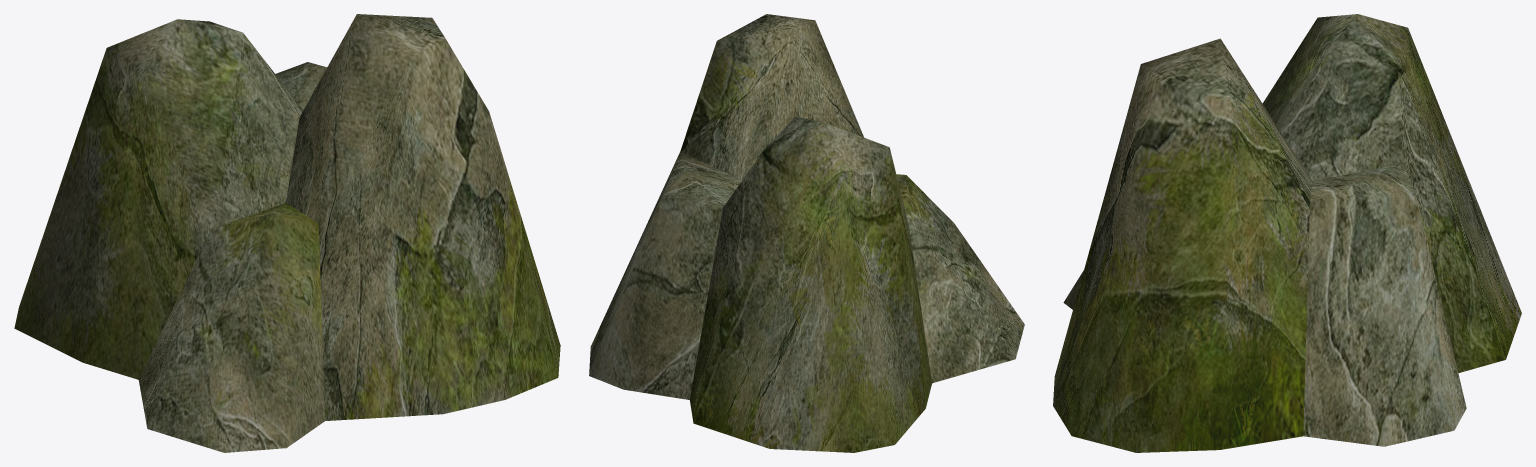
Rendered from STONE1.fbx.
3 views of the same model, side by side, from view 1: azimuth 30°, elevation 25°; view 2: azimuth 150°, elevation 25°; view 3: azimuth 270°, elevation 25° (orthographic). The views are drawn at different scales.
Parts seen in each view (by area): view 1: Box001; view 2: Box001; view 3: Box001.
Part boxes in pixels (left/top/right/bottom): Box001: left=14, top=14, right=560, bottom=452; Box001: left=589, top=14, right=1024, bottom=452; Box001: left=1053, top=14, right=1521, bottom=452.
Size of the model in its own units: 19.05 by 15.63 by 19.74.
1 material, 1 textured.
